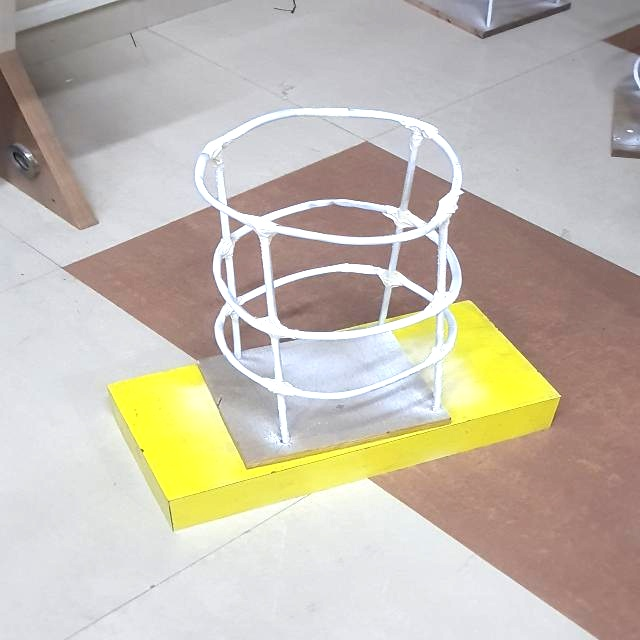silo: (188, 108, 461, 429)
